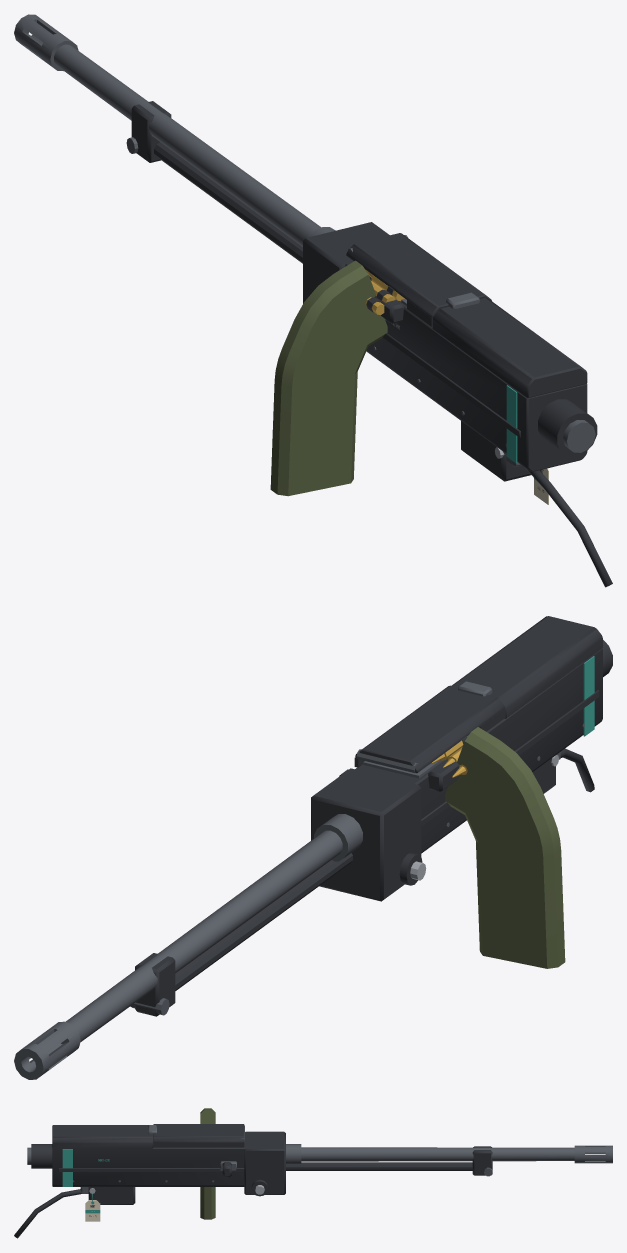
File: m240_coax.glb
The picture shows the model from 3 angles, top to bottom: view 1: azimuth 30°, elevation 25°; view 2: azimuth 150°, elevation 25°; view 3: azimuth 270°, elevation 25°; orthographic projection. The views are drawn at different scales.
Visible parts, largest first — view 1: body, cover, body_fine; view 2: body, cover, body_fine; view 3: body, cover, body_fine, charging_handle.
Boxes of the visible parts, x1,y1,x2,y2 form: body: (14,14,612,587); cover: (346,233,491,326); body_fine: (373,319,543,492); body: (14,616,612,1079); cover: (354,681,505,773); body_fine: (446,656,594,827); body: (14,1108,612,1238); cover: (148,1124,244,1147); body_fine: (62,1149,214,1216); charging_handle: (220,1161,236,1177).
Size of the model in its own units: 0.231 by 0.2382 by 1.15.
